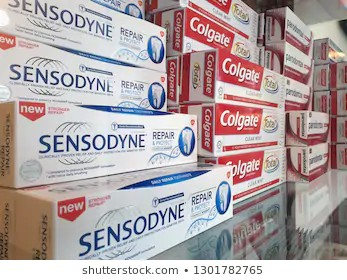colgate-family: (198, 98, 285, 150)
colgate-medium: (180, 53, 290, 106)
